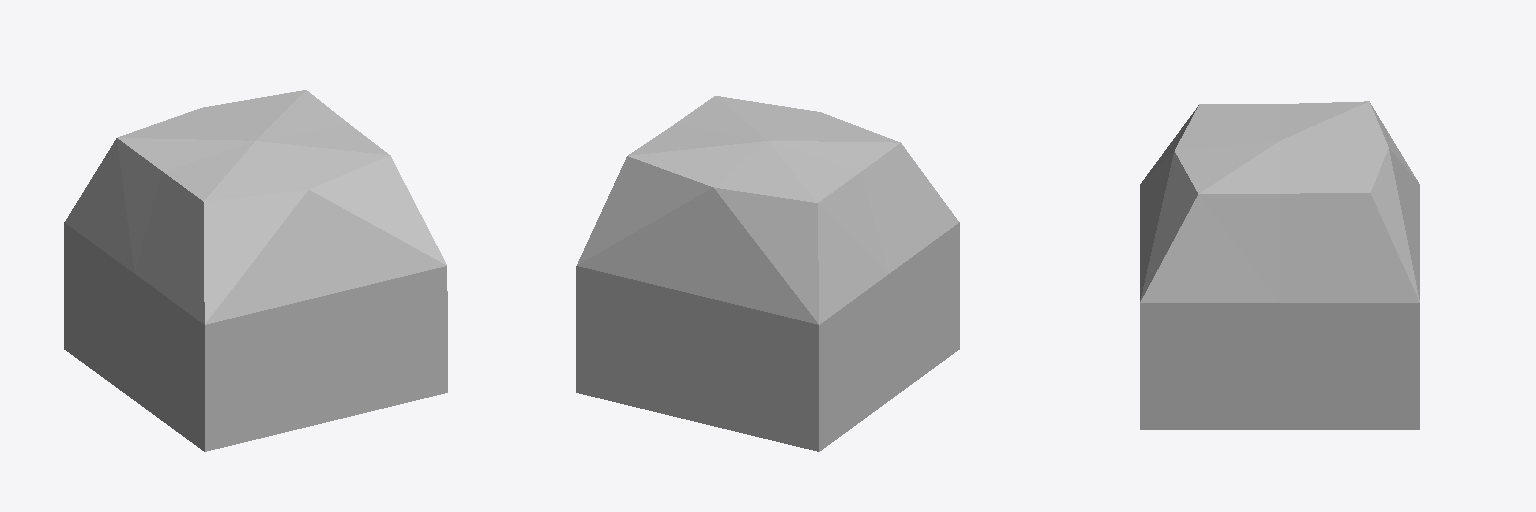
The model's file is cube-simple2.obj.
3 views of the same model, side by side, from view 1: azimuth 30°, elevation 25°; view 2: azimuth 150°, elevation 25°; view 3: azimuth 270°, elevation 25° (orthographic).
Bounding box in the file's own units: 2 × 1.81 × 2.